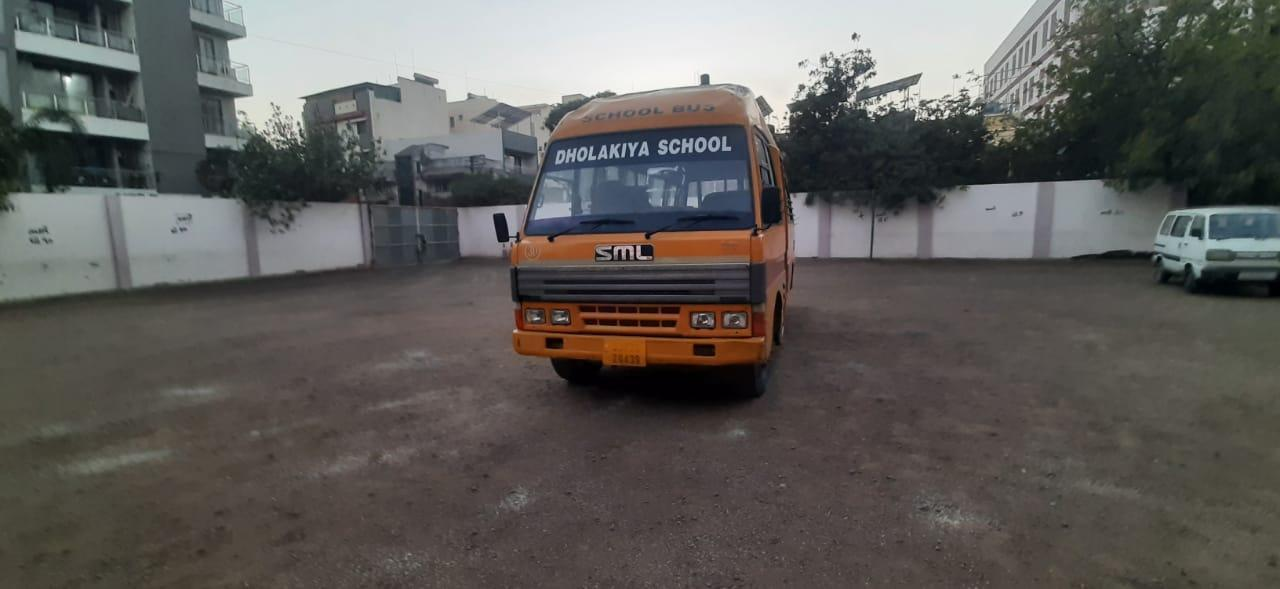Bus: (487, 78, 827, 414)
